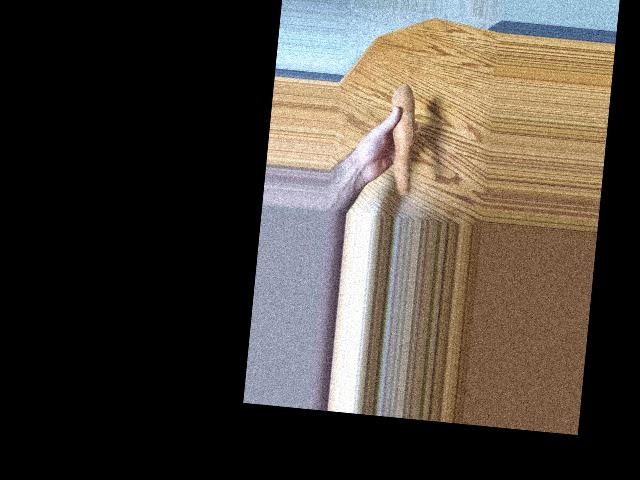sweet_potato: (386, 86, 422, 200)
